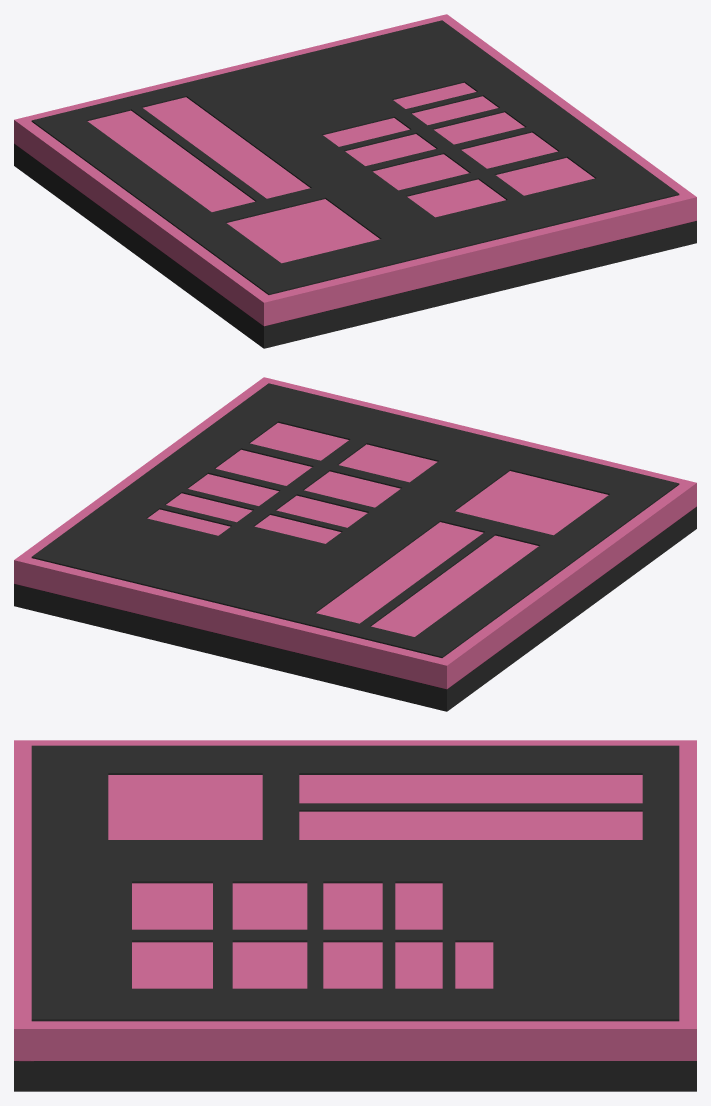
The model's file is Button_Magenta.fbx.
3 views of the same model, one above another, from view 1: azimuth 30°, elevation 25°; view 2: azimuth 150°, elevation 25°; view 3: azimuth 270°, elevation 25° (orthographic). The views are drawn at different scales.
Visible parts, largest first — view 1: Box001; view 2: Box001; view 3: Box001.
Part boxes in pixels (x1=…): Box001: x1=14, y1=14, x2=696, y2=348; Box001: x1=14, y1=377, x2=696, y2=711; Box001: x1=14, y1=740, x2=696, y2=1091.
Size of the model in its own units: 1.01 by 0.1053 by 1.01.
